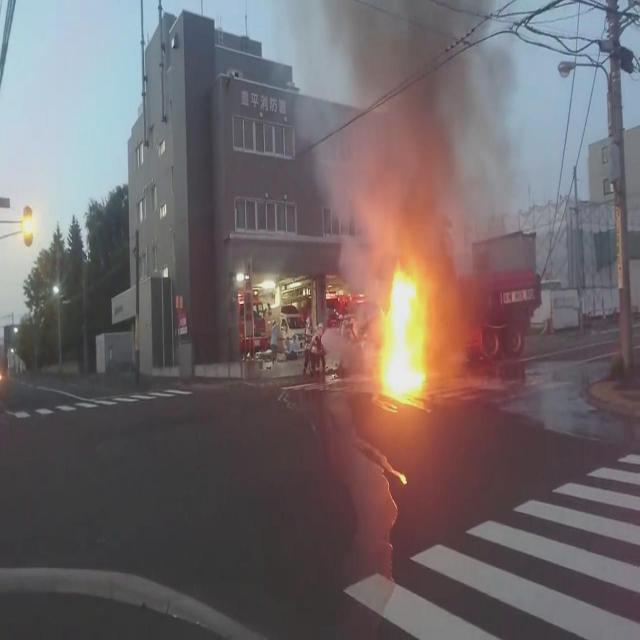Fire: (381, 270, 429, 390)
